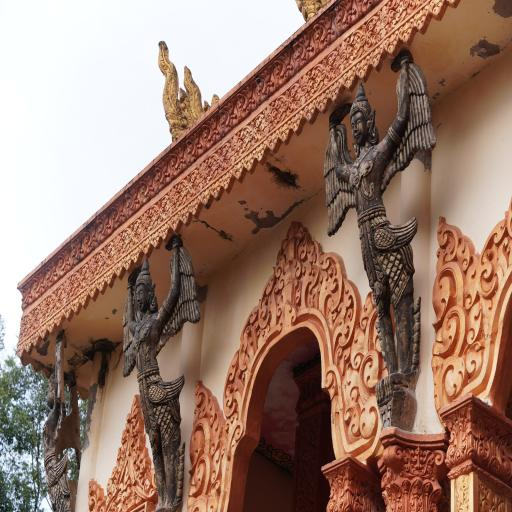la: (478, 196, 512, 302), (351, 287, 391, 367), (340, 7, 384, 64), (328, 278, 361, 352), (269, 75, 307, 129), (430, 261, 465, 319), (317, 248, 345, 318), (430, 349, 466, 402), (221, 348, 247, 418), (308, 43, 344, 92), (236, 106, 270, 156), (203, 133, 235, 182), (382, 0, 422, 39), (171, 160, 203, 208), (238, 304, 260, 372), (436, 308, 466, 356), (256, 267, 278, 331), (356, 398, 382, 450), (433, 214, 459, 266), (356, 348, 382, 398), (142, 189, 172, 230), (280, 220, 307, 264), (186, 419, 213, 462), (116, 213, 144, 252), (464, 251, 482, 311), (89, 237, 117, 274), (66, 258, 91, 298), (322, 364, 344, 408), (290, 29, 312, 71), (465, 341, 487, 382), (301, 261, 319, 311), (309, 12, 332, 50), (42, 281, 66, 317), (467, 304, 486, 348), (192, 454, 212, 494), (19, 302, 43, 335), (254, 65, 274, 103), (278, 258, 302, 289), (332, 0, 353, 35), (223, 412, 245, 444), (272, 50, 291, 87), (190, 378, 208, 417), (344, 360, 360, 403), (86, 478, 106, 512), (455, 233, 473, 270), (342, 401, 359, 438), (234, 87, 254, 118), (210, 440, 224, 483), (211, 411, 226, 451), (204, 479, 222, 512), (168, 146, 187, 176), (278, 302, 297, 331), (354, 55, 372, 85), (125, 392, 144, 420), (201, 116, 218, 147), (411, 8, 431, 34), (218, 101, 235, 131), (153, 161, 169, 190), (341, 68, 358, 95), (326, 81, 345, 105), (398, 21, 417, 45), (369, 46, 386, 72), (428, 0, 448, 22), (123, 189, 139, 216), (184, 134, 200, 161), (383, 34, 401, 58), (109, 201, 125, 227), (290, 111, 306, 137), (138, 176, 155, 200), (96, 212, 110, 240), (44, 259, 58, 286), (303, 101, 319, 124), (143, 469, 157, 495), (56, 249, 70, 275), (81, 228, 96, 252), (266, 131, 280, 156), (242, 152, 257, 175), (278, 123, 293, 146), (118, 466, 132, 490), (206, 396, 218, 424), (169, 212, 183, 236), (315, 92, 330, 114), (189, 196, 202, 221), (273, 250, 285, 277), (255, 143, 269, 166), (308, 238, 320, 264), (179, 206, 192, 230), (209, 180, 223, 202), (232, 162, 246, 184), (72, 239, 84, 264), (221, 171, 235, 192), (138, 448, 151, 470), (292, 280, 303, 306), (200, 189, 213, 211), (133, 432, 147, 452), (149, 230, 162, 250), (142, 238, 153, 260), (105, 268, 117, 287), (132, 247, 144, 266), (116, 446, 126, 468), (31, 278, 41, 300), (36, 270, 46, 292), (79, 290, 90, 310), (96, 275, 107, 295), (160, 224, 171, 244), (121, 254, 133, 272), (132, 418, 144, 435), (120, 422, 130, 442), (19, 288, 29, 308), (25, 281, 34, 303), (54, 311, 65, 329), (31, 330, 41, 349), (114, 260, 124, 279), (71, 298, 82, 315), (24, 337, 34, 355), (39, 322, 48, 342), (64, 304, 74, 322), (88, 282, 98, 300), (110, 466, 120, 482), (48, 316, 56, 336), (17, 342, 25, 361), (106, 476, 114, 494)
ran: (155, 38, 222, 144), (293, 0, 333, 22)
than: (319, 46, 441, 437), (119, 233, 205, 512), (38, 324, 86, 512)
